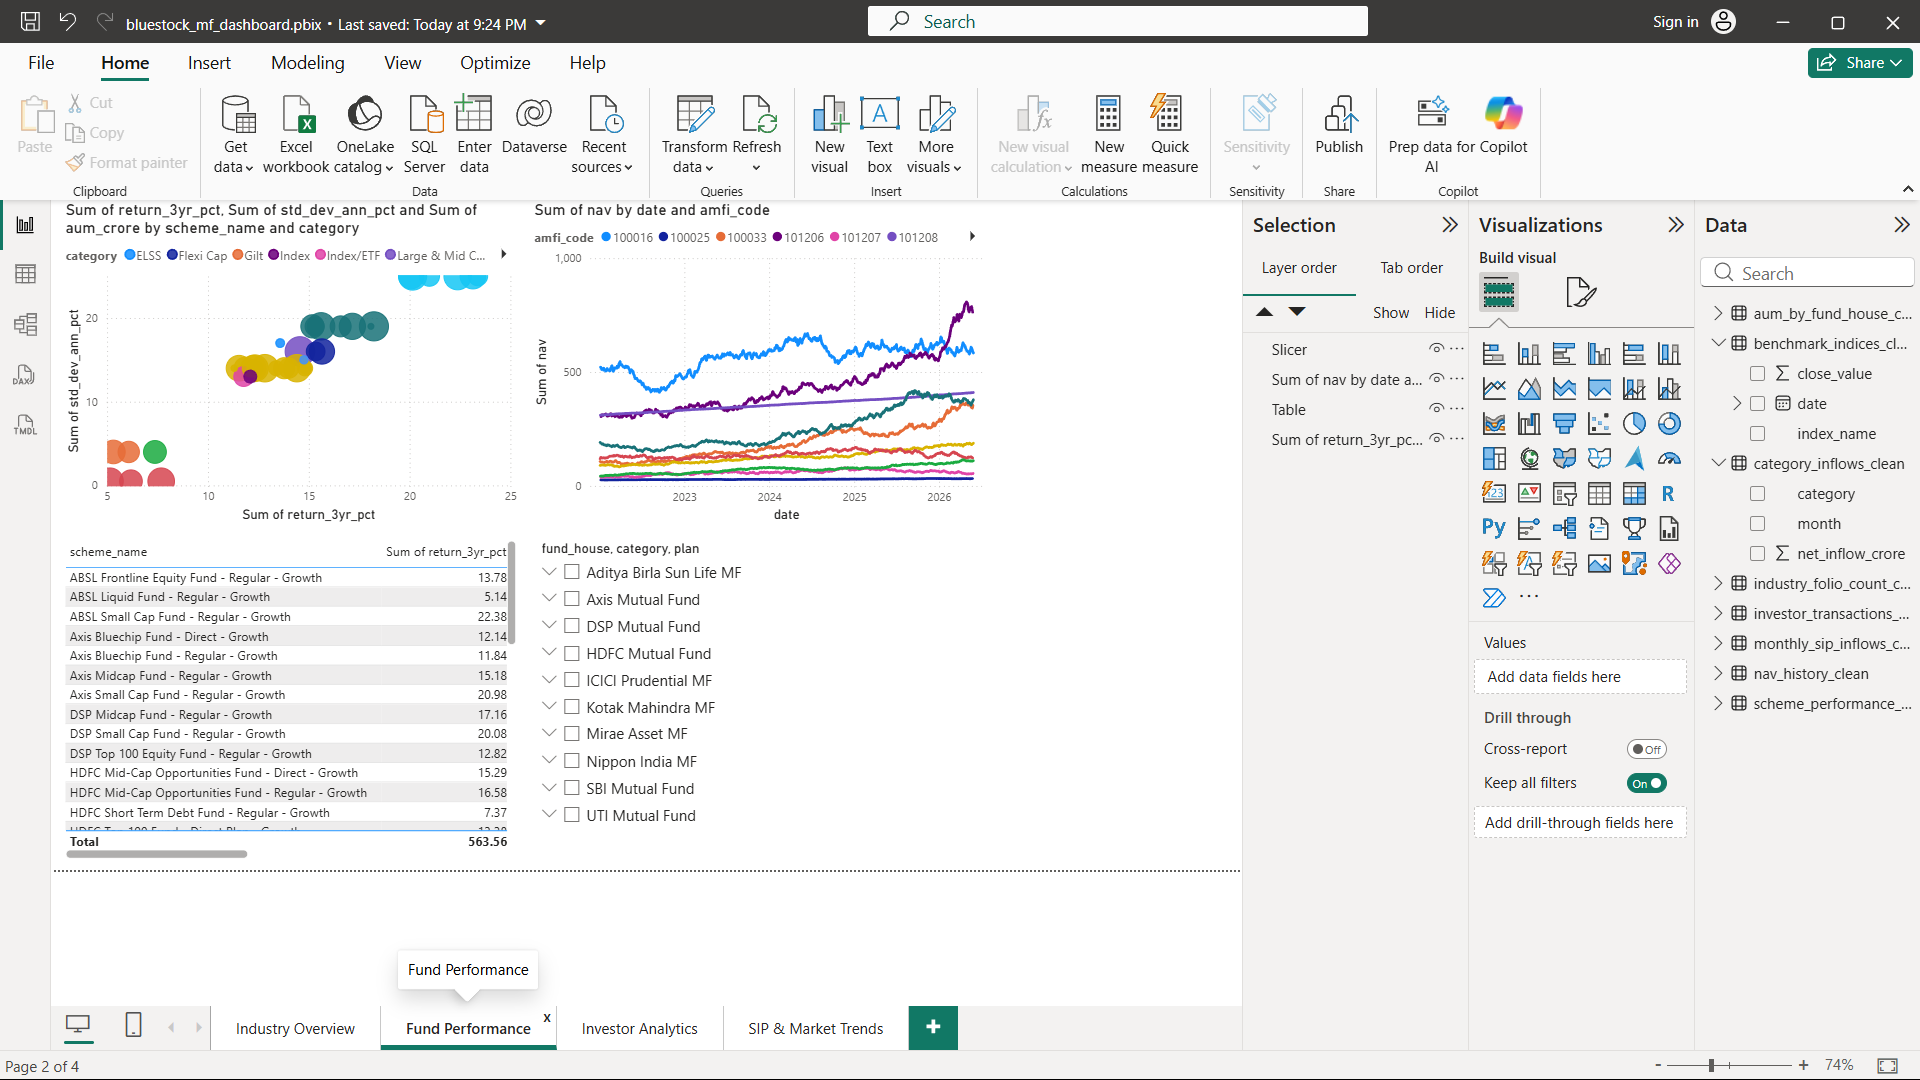

What the dashboard file says about the page in this screenshot:
{"tool":"powerbi","page":{"name":"Fund Performance","canvas":[1280,720],"ordinal":1},"visuals":[{"type":"scatterChart","fields":{"X":["Sum(scheme_performance_clean.return_3yr_pct)"],"Y":["Sum(scheme_performance_clean.std_dev_ann_pct)"],"Size":["Sum(scheme_performance_clean.aum_crore)"],"Category":["scheme_performance_clean.scheme_name"],"Series":["scheme_performance_clean.category"]},"box":[10.2,0,495.2,350.5],"z":0},{"type":"tableEx","fields":{"Values":["scheme_performance_clean.scheme_name","Sum(scheme_performance_clean.return_3yr_pct)","Sum(scheme_performance_clean.sharpe_ratio)","Sum(scheme_performance_clean.sortino_ratio)","Sum(scheme_performance_clean.alpha)","Sum(scheme_performance_clean.max_drawdown_pct)","scheme_performance_clean.fund_house"]},"box":[10,361,495,351],"z":1000},{"type":"lineChart","fields":{"Category":["nav_history_clean.date"],"Y":["Sum(nav_history_clean.nav)"],"Series":["nav_history_clean.amfi_code"]},"box":[515,0,495,351],"z":2000},{"type":"slicer","fields":{"Values":["scheme_performance_clean.fund_house","scheme_performance_clean.category","scheme_performance_clean.plan"]},"box":[515,361,495,351],"z":3000}]}

Visuals, with their boxes on the page's 1280x720 design canvas (x1, y1, x2, y2). These are canvas units, not pixel positions in the 1920x1080 screenshot, which may show the page scaled, cropped or inside an application window:
scatterChart - Sum(scheme_performance_clean.return_3yr_pct) x Sum(scheme_performance_clean.std_dev_ann_pct): box(10, 0, 505, 350)
tableEx - scheme_performance_clean.scheme_name x Sum(scheme_performance_clean.return_3yr_pct): box(10, 361, 505, 712)
lineChart - nav_history_clean.date x Sum(nav_history_clean.nav): box(515, 0, 1010, 351)
slicer - scheme_performance_clean.fund_house x scheme_performance_clean.category: box(515, 361, 1010, 712)
